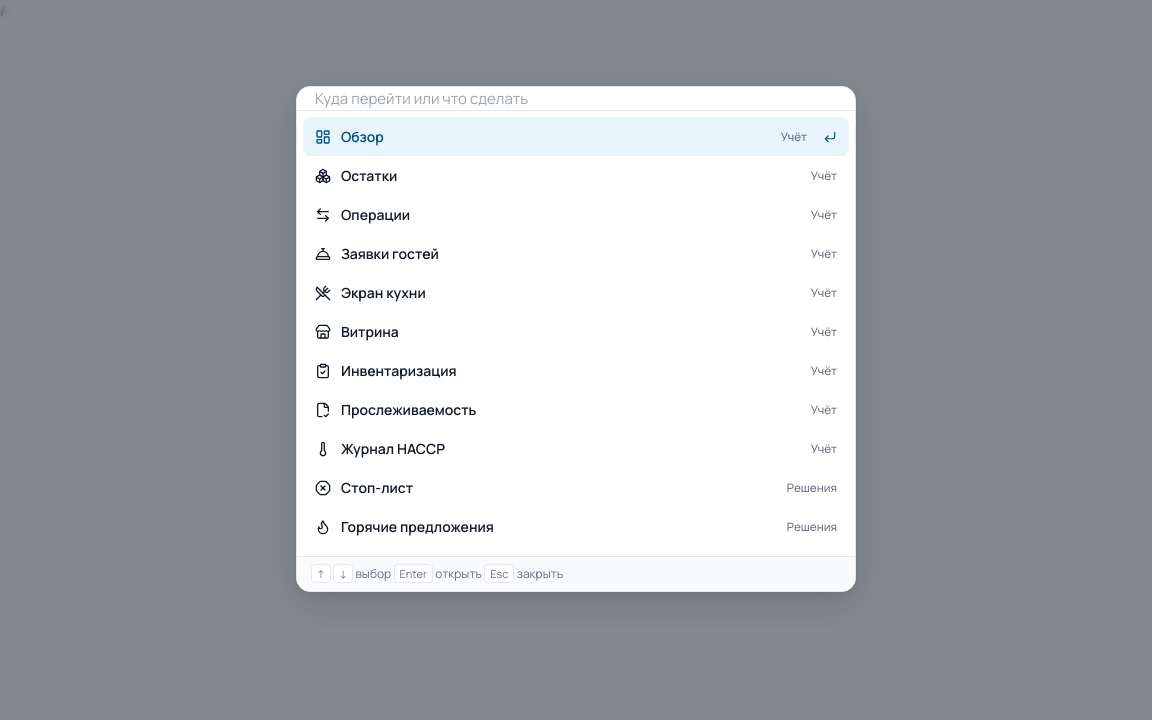
Test: палитра команд › пустой поиск сообщает, что ничего нет
Type "zzzzzz" into the dropdown. click: (576, 99)
box: x1=297 y1=87 x2=855 y2=111
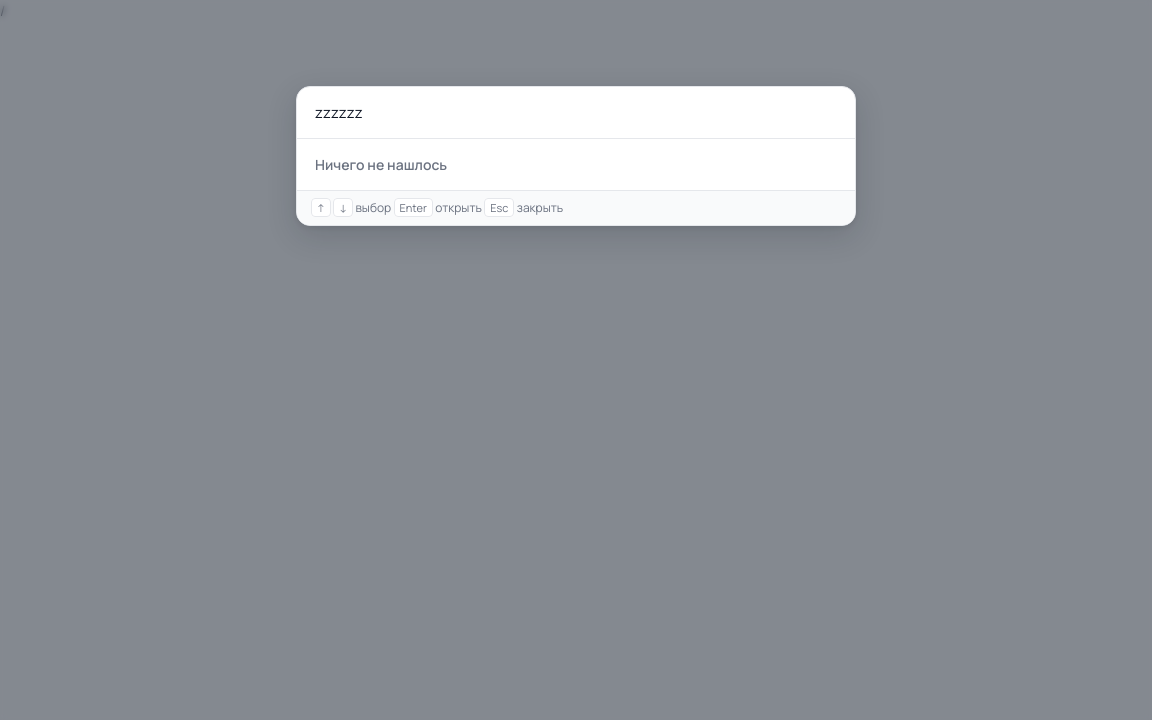
Expected: the list item "Ничего не нашлось" is shown, x1=315 y1=155 x2=447 y2=174
